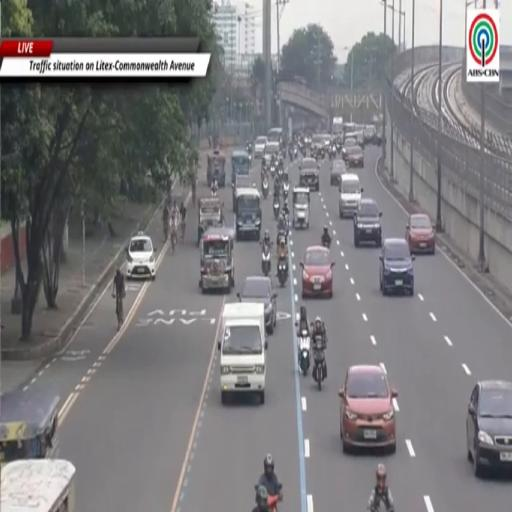car: (339, 365, 397, 453), (467, 380, 511, 476), (237, 277, 277, 333), (379, 238, 414, 295), (300, 246, 335, 298), (126, 232, 155, 280), (354, 199, 381, 247), (406, 214, 435, 254), (339, 173, 363, 218), (299, 157, 319, 190), (330, 159, 347, 185), (264, 142, 280, 168), (346, 146, 363, 168), (342, 137, 357, 159), (254, 136, 267, 158), (311, 135, 324, 157), (364, 125, 376, 143), (322, 134, 332, 150)
jeepney: (0, 388, 59, 466), (0, 459, 76, 511), (200, 228, 234, 293), (236, 188, 261, 239), (198, 197, 223, 246), (232, 175, 255, 212), (292, 187, 309, 228), (207, 150, 226, 186), (231, 151, 251, 184)
motorcycle: (298, 330, 310, 376), (313, 348, 326, 390), (267, 484, 282, 511), (277, 260, 287, 286), (262, 244, 270, 276), (267, 495, 279, 511), (262, 176, 269, 198), (273, 198, 280, 219), (282, 182, 290, 198), (211, 181, 218, 197), (328, 148, 334, 161), (330, 146, 336, 159), (322, 239, 330, 248), (270, 164, 275, 178), (289, 149, 293, 161), (302, 147, 306, 157), (294, 147, 297, 158), (249, 153, 252, 164)
